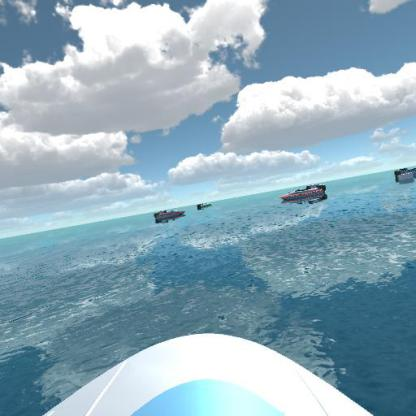usv0: (196, 200, 214, 212)
usv1: (390, 162, 415, 184)
usv3: (277, 181, 332, 207), (148, 205, 186, 224)
